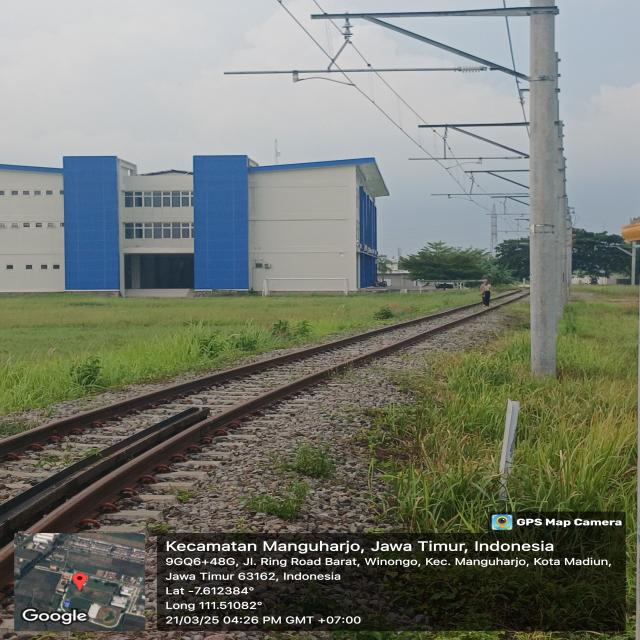rail-detection: (28, 321, 460, 534), (0, 480, 68, 531), (81, 503, 89, 511)
